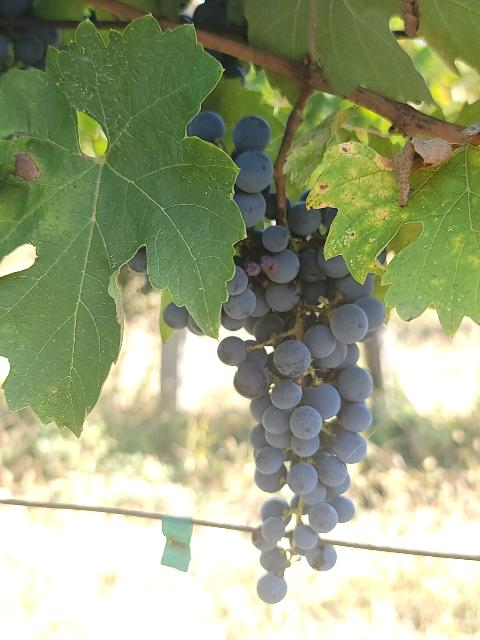grapes: (219, 201, 385, 604)
